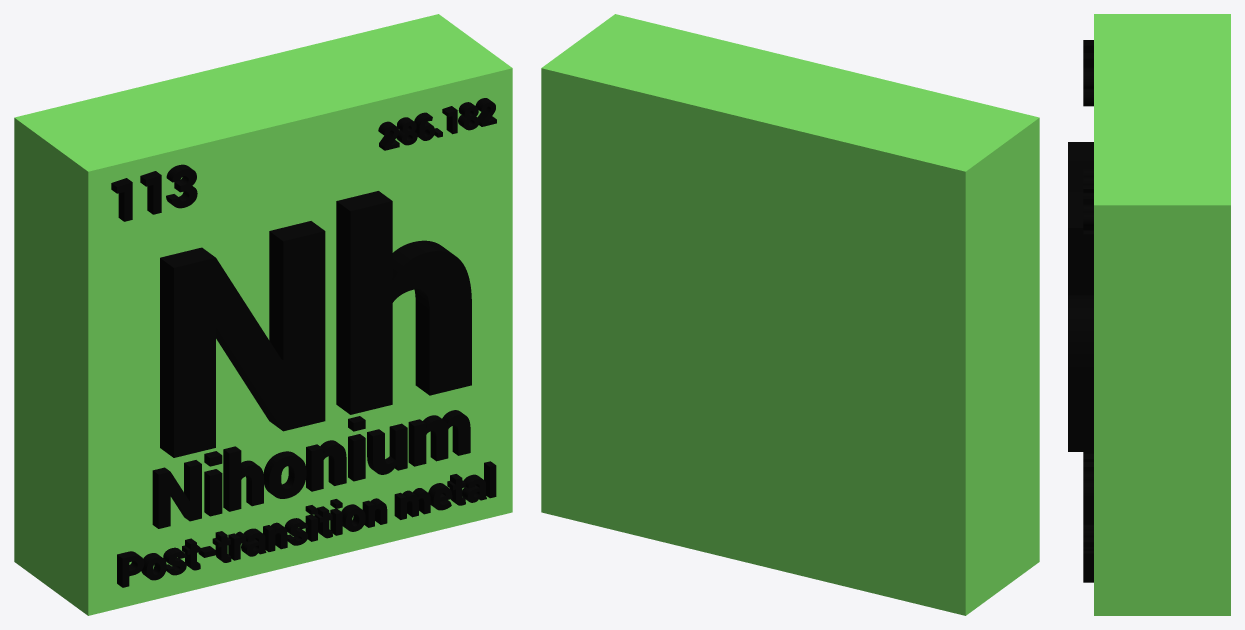
3 renders of one model, left to right at view 1: azimuth 30°, elevation 25°; view 2: azimuth 150°, elevation 25°; view 3: azimuth 270°, elevation 25°, orthographic. The views are drawn at different scales.
Visible parts, largest first — view 1: Cube, Text, Text.001, Text.002, Text.004, Text.003; view 2: Cube; view 3: Cube, Text, Text.001, Text.004, Text.003, Text.002.
Part boxes in pixels (<box>): Cube: <box>14,14,512,615</box>; Text: <box>160,191,471,457</box>; Text.001: <box>152,410,470,528</box>; Text.002: <box>117,461,496,587</box>; Text.004: <box>378,98,496,150</box>; Text.003: <box>111,164,197,221</box>; Cube: <box>541,14,1039,615</box>; Cube: <box>1094,14,1230,615</box>; Text: <box>1068,142,1093,451</box>; Text.001: <box>1083,452,1093,524</box>; Text.004: <box>1083,168,1093,237</box>; Text.003: <box>1083,40,1093,106</box>; Text.002: <box>1083,524,1093,582</box>.
Bounding box in the file's own units: 178 × 178 × 63.95.
